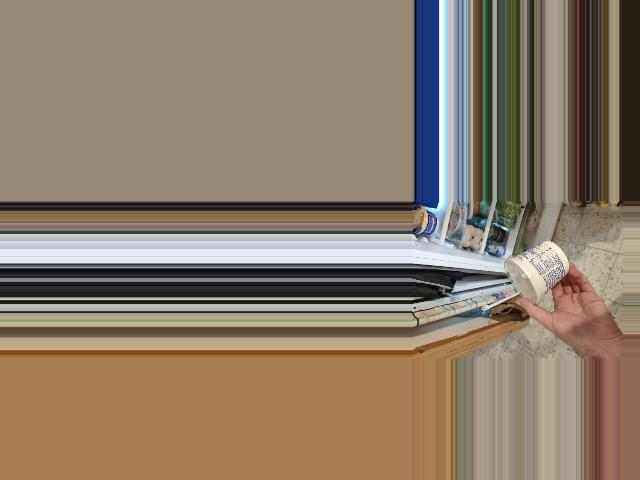cotage: (508, 247, 571, 309)
